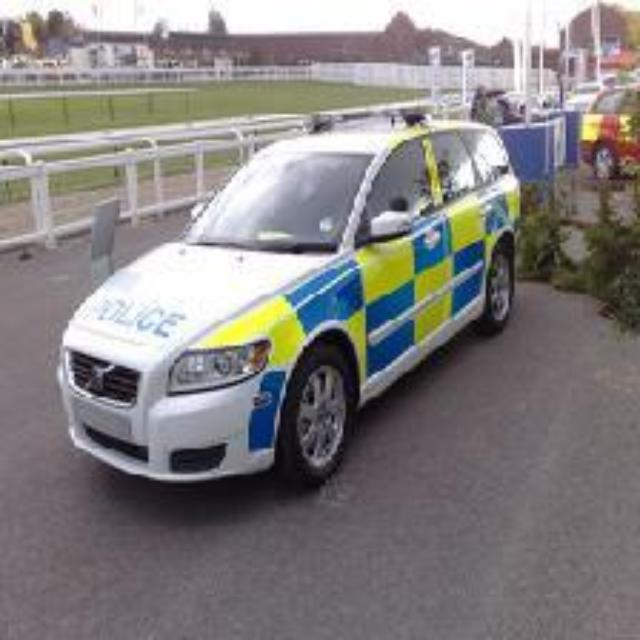emergency: (51, 106, 522, 497)
